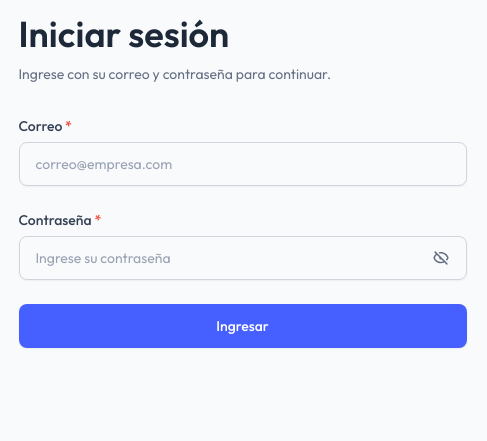
SignInForm › si el servidor rechaza, muestra su mensaje y no sale de la pantalla
Type "admin@mollendo.pe" into the field with placeholder "correo@empresa.com" at coordinates (242, 164), box [18,142,466,186]
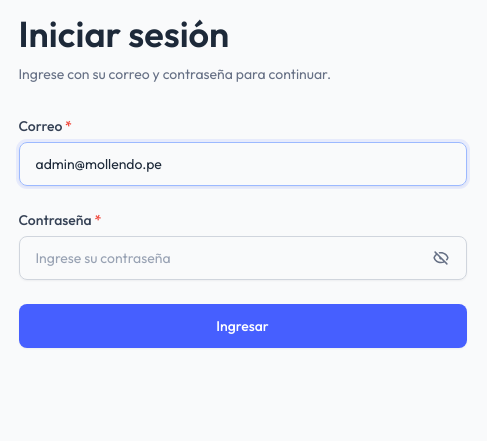
Type "mala" into the password field with placeholder "Ingrese su contraseña" at coordinates (242, 258), box [18,236,466,280]
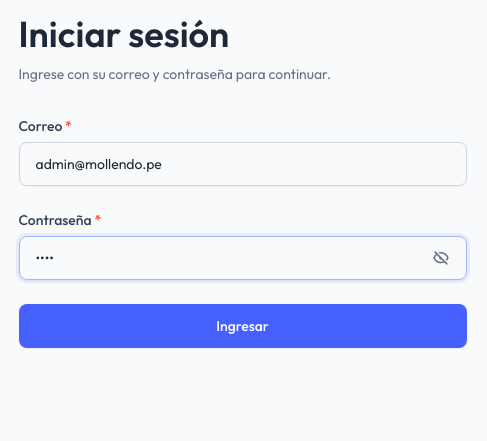
Click the button "Ingresar" at coordinates (242, 326), box [18,304,466,348]
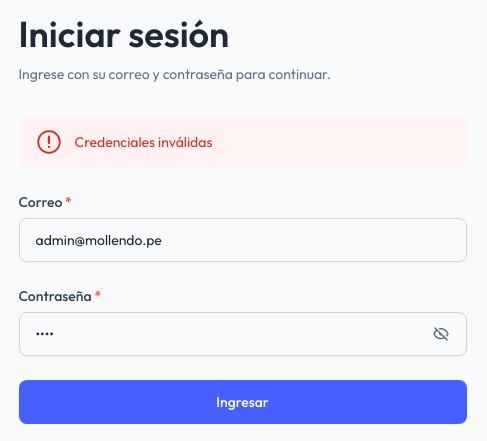
Expected: the button "Ingresar" is enabled, [18,380,466,424]
Expected: the text "Credenciales inválidas" is shown, [74,132,212,152]
